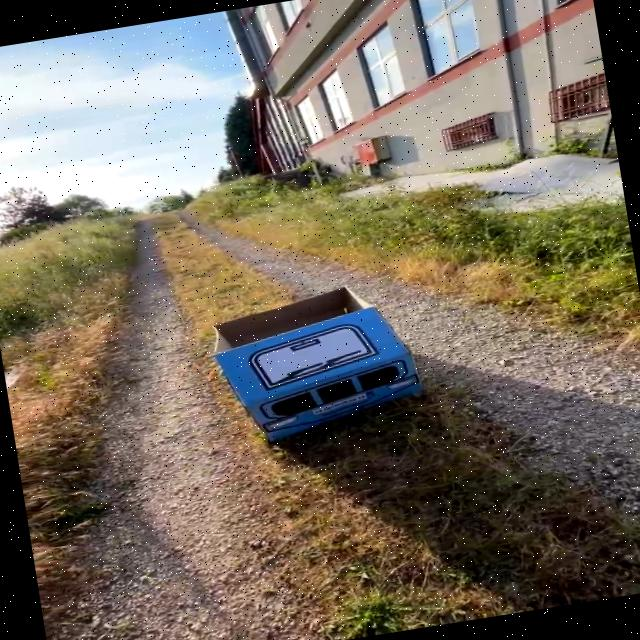blue_car: (167, 260, 497, 483)
